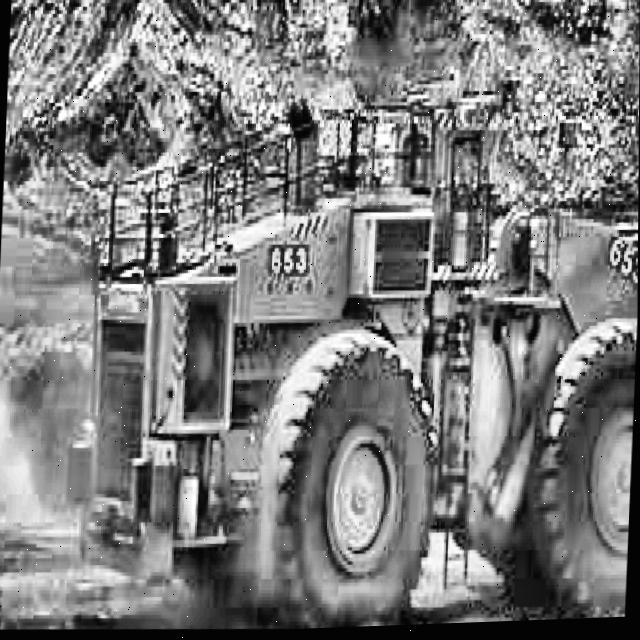buldozerpayloadergrader: (55, 39, 640, 638)
